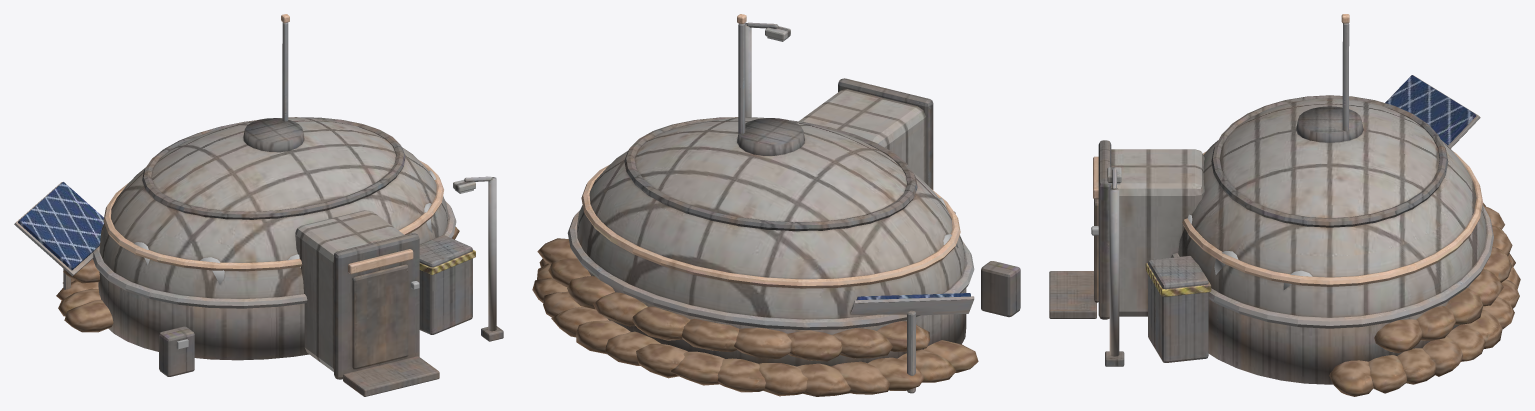
The model's file is house_3.glb.
3 views of the same model, side by side, from view 1: azimuth 30°, elevation 25°; view 2: azimuth 150°, elevation 25°; view 3: azimuth 270°, elevation 25° (orthographic). The views are drawn at different scales.
Parts seen in each view (by area): view 1: house_3, Glow; view 2: house_3; view 3: house_3, Glow.
Part boxes in pixels (x1,y1,x2,y2): house_3: [14, 14, 503, 396]; Glow: [134, 170, 473, 349]; house_3: [532, 14, 1020, 396]; house_3: [1049, 14, 1520, 396]; Glow: [1091, 183, 1312, 289].
Bounding box in the file's own units: 3.28 × 2.06 × 2.96.
Materials: 3 (1 with a texture image).
